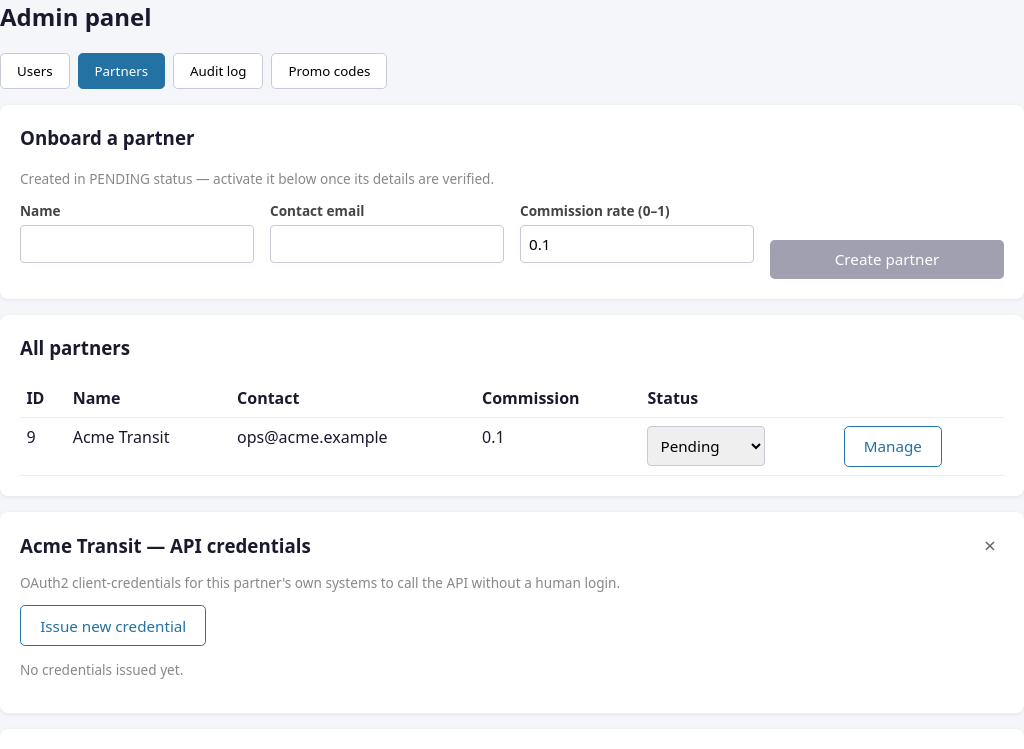
Scenario: AdminPanelComponent › partners tab template › with a partner selected › renders the partner-detail header and the close button clears it
This screenshot has width=1024, height=749.
expect the heading "Acme Transit — API credentials" is shown: met, box [20,533,311,558]
Click the button named "Close partner detail". click: point(990, 546)
box: [976,532,1004,559]
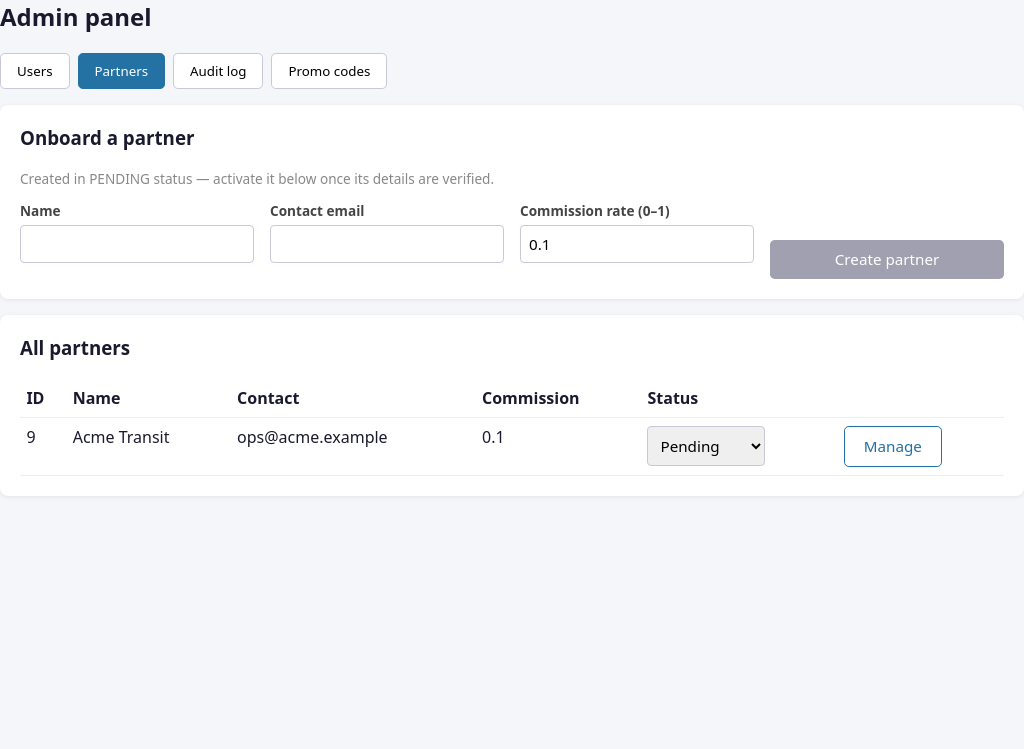
expect the element with class "detail-header" is gone: met
